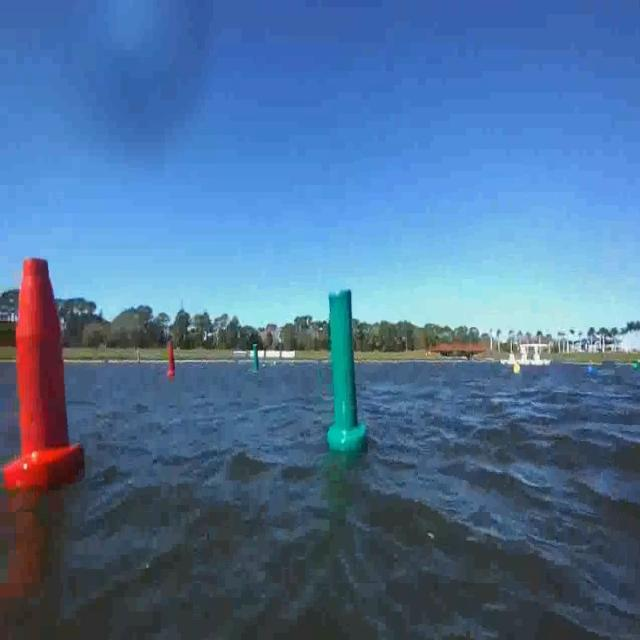blue-buoy: (588, 363, 597, 376)
green-column-buoy: (326, 286, 368, 450), (250, 344, 260, 374)
red-column-buoy: (1, 256, 84, 486), (168, 343, 178, 377)
yellow-buoy: (514, 362, 522, 375)
